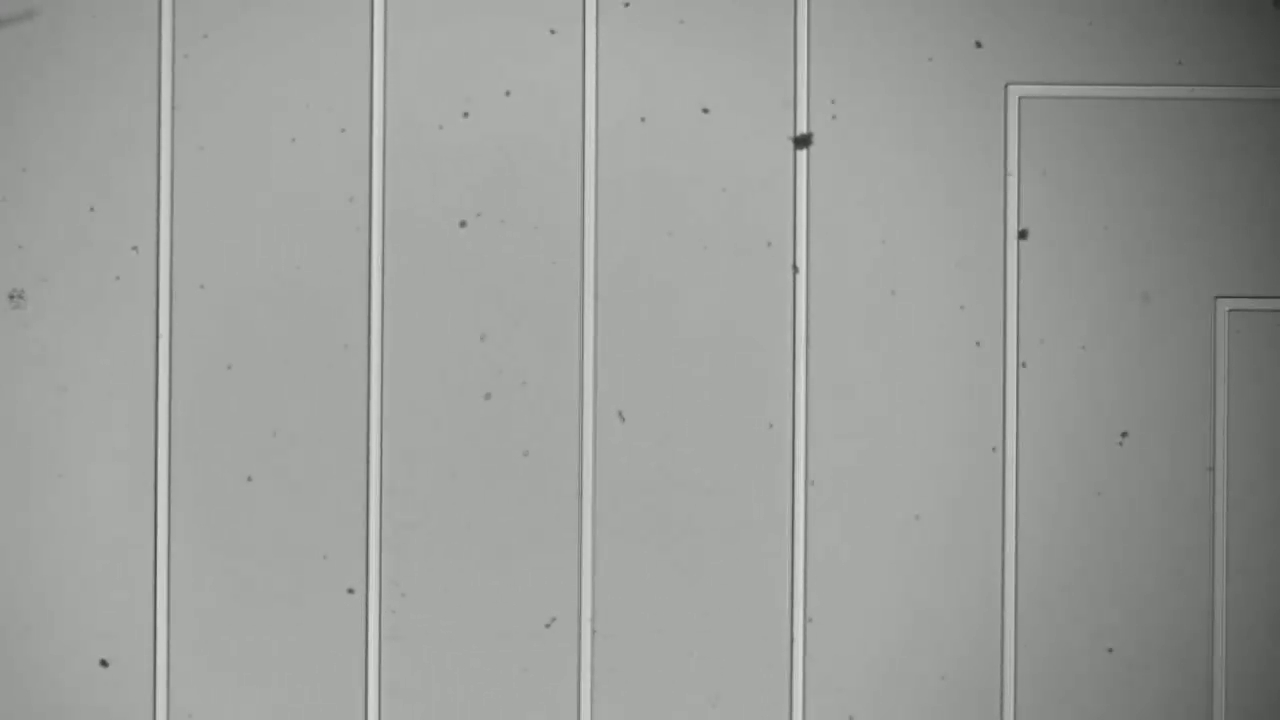stains_enbedded: (788, 126, 819, 160)
